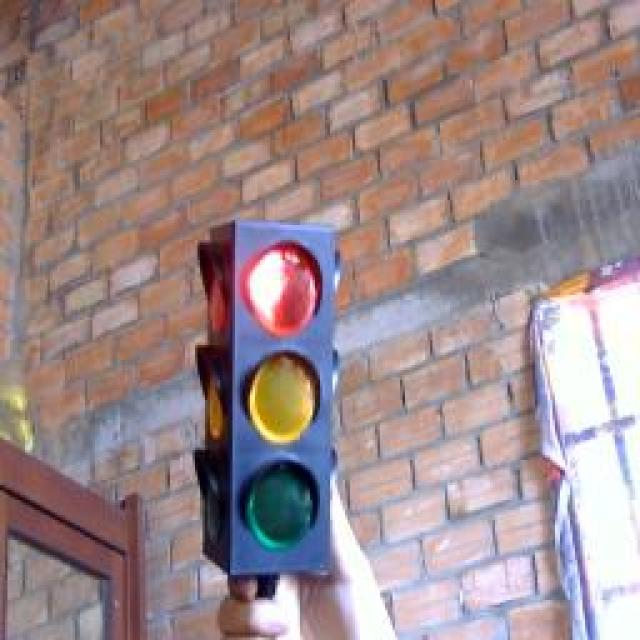-: (235, 220, 327, 347)
